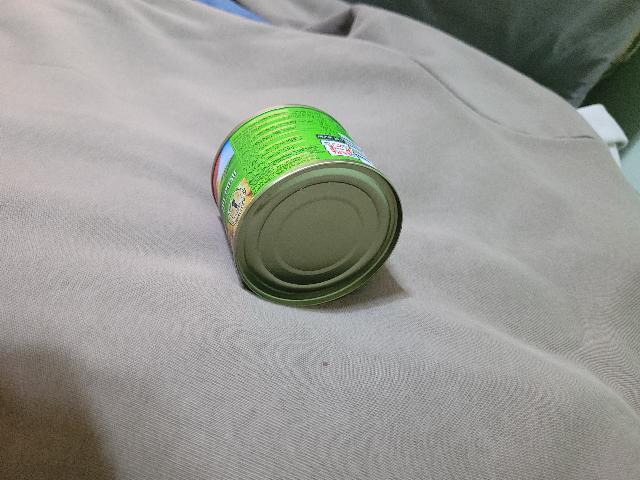Metal: (209, 108, 409, 310)
